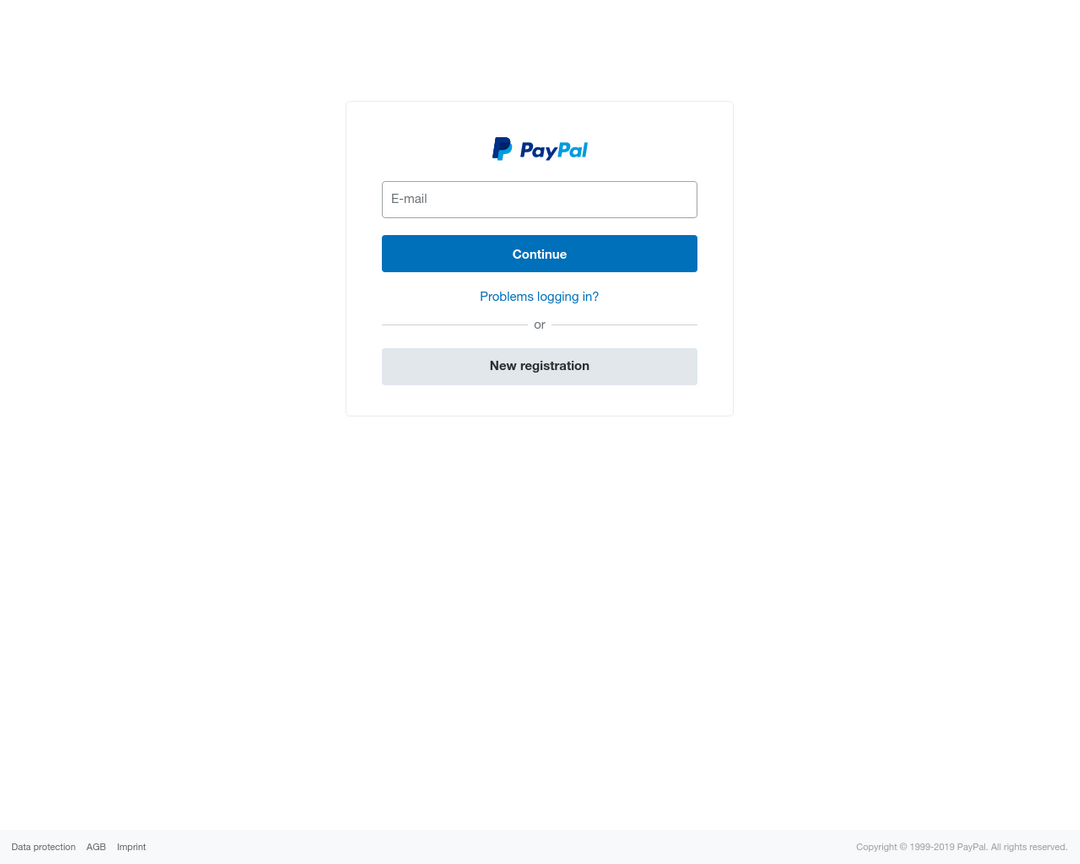Paypal: (483, 132, 594, 169)
